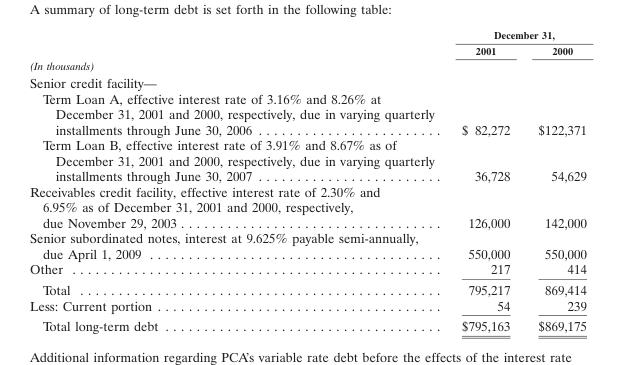table: (28, 28, 585, 333)
table column: (28, 28, 447, 333), (447, 28, 523, 333), (523, 28, 585, 333)
table column header: (28, 28, 585, 57)
table projected row header: (28, 73, 585, 90), (28, 57, 585, 73)
table row: (28, 90, 585, 137), (28, 183, 585, 230), (28, 137, 585, 183), (28, 230, 585, 261), (28, 261, 585, 279), (28, 279, 585, 297), (28, 297, 585, 315), (28, 315, 585, 333), (28, 73, 585, 90), (28, 57, 585, 73), (28, 42, 585, 57), (28, 28, 585, 42)
table spanning cell: (447, 28, 585, 42)
